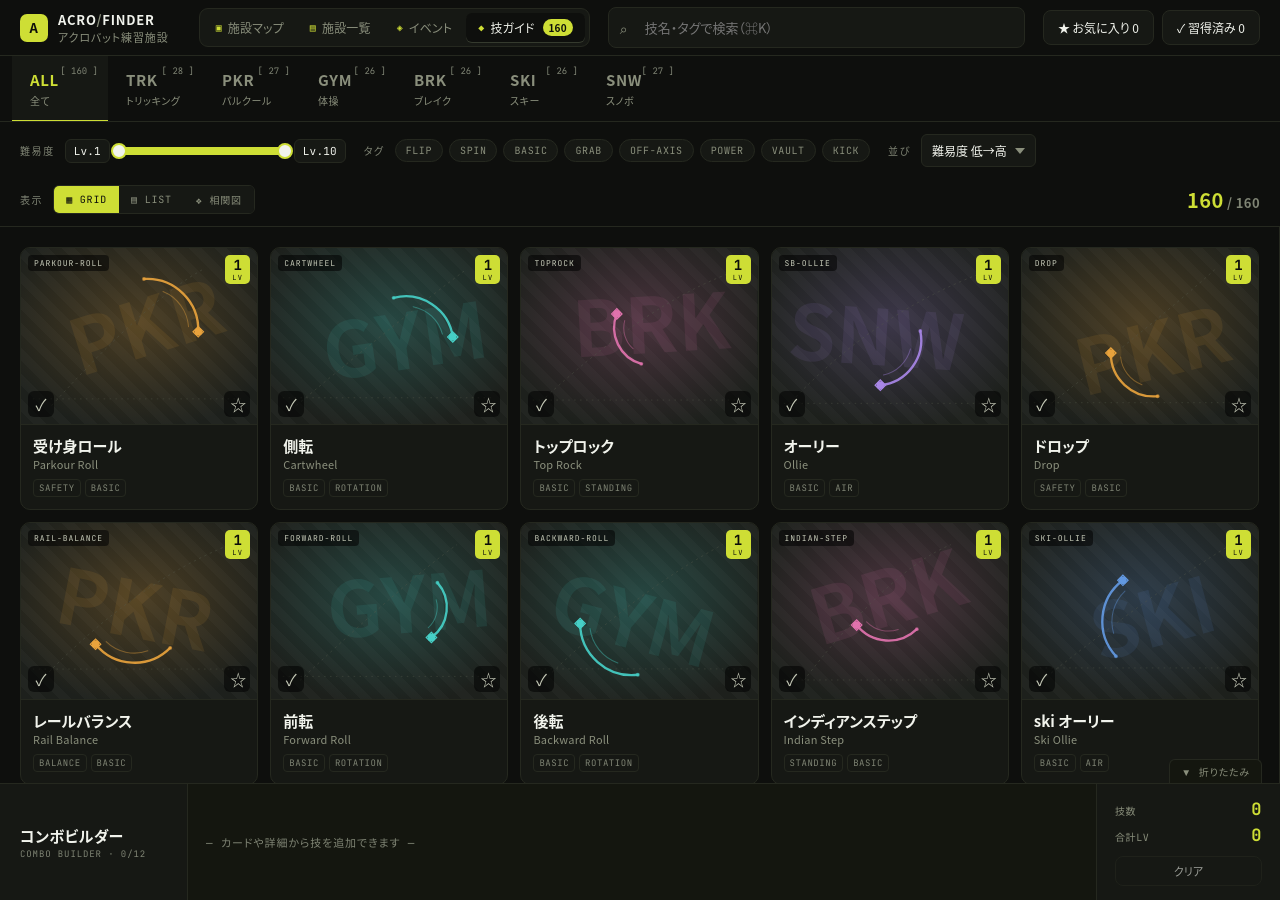
Test: SkillsApp › adds a skill to the combo from the detail panel
The width and height of the screenshot is (1280, 900).
Click the element with class "skl-card" that starts with "PKR".
click(139, 378)  # box [20,247,258,510]
(page scrolled)
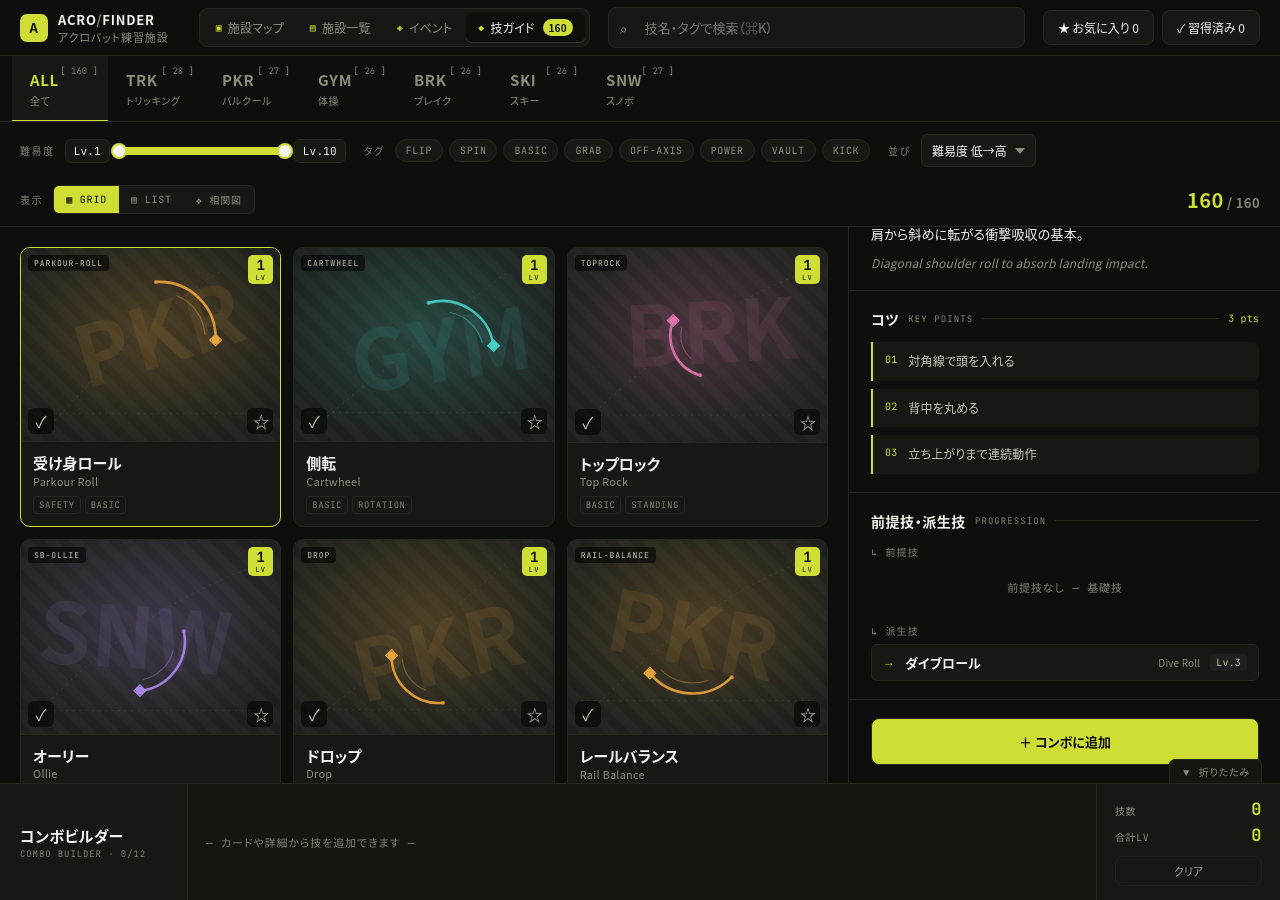
Click the button with class "skl-sp-addcombo".
click(1065, 741)  # box [871,718,1259,765]
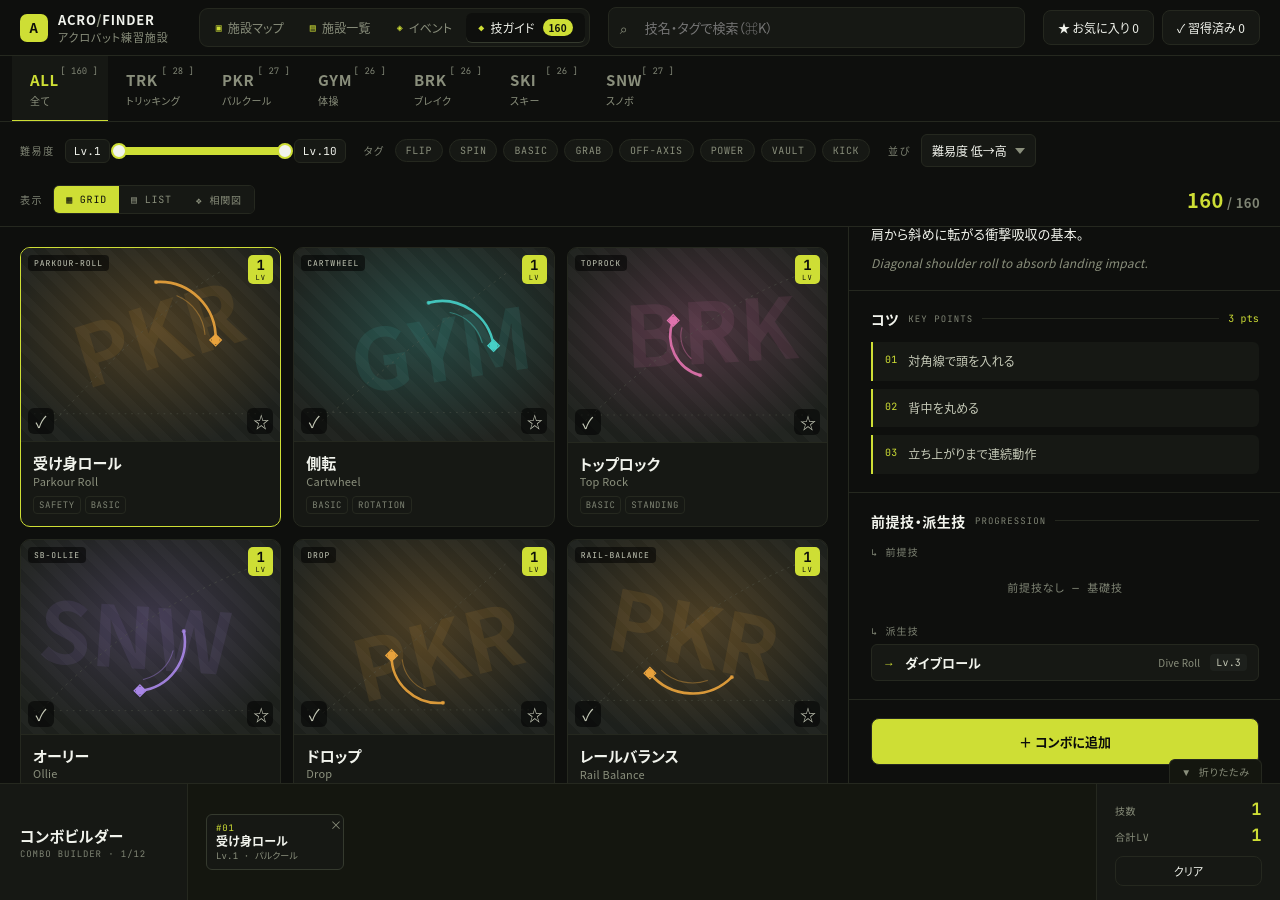
Expected: the number of elements with class "skl-combo-slot" is 1, [206,814,344,870]
